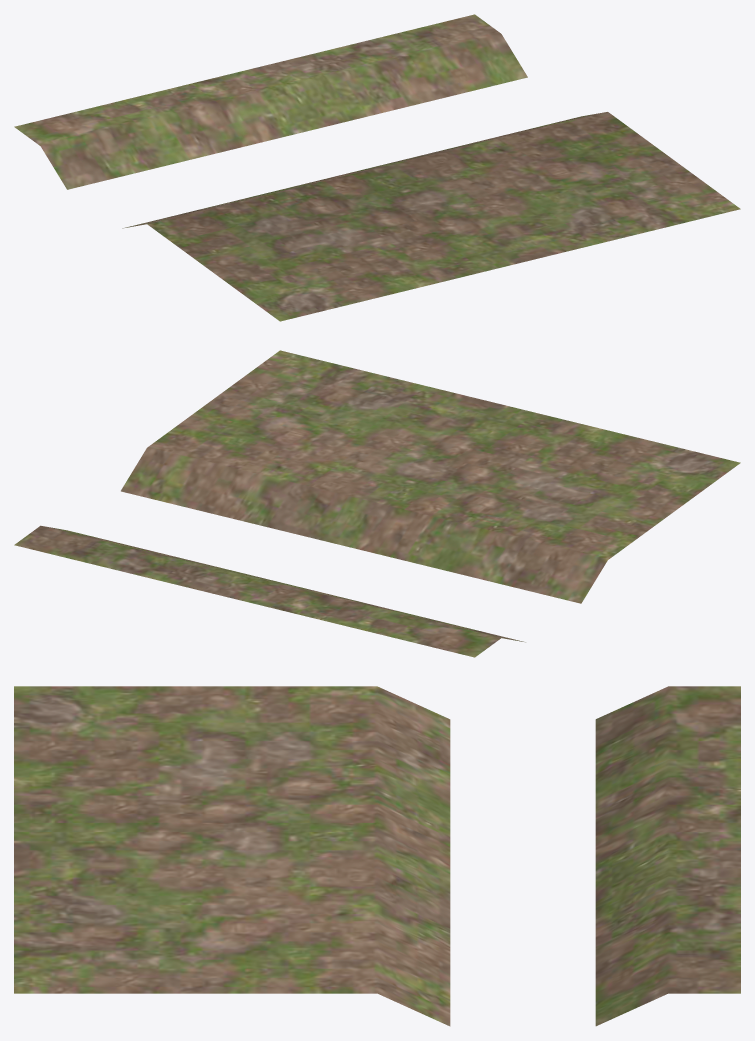
Rendered from ground3.FBX.
3 views of the same model, one above another, from view 1: azimuth 30°, elevation 25°; view 2: azimuth 150°, elevation 25°; view 3: azimuth 270°, elevation 25° (orthographic). The views are drawn at different scales.
Visible parts, largest first — view 1: ground3; view 2: ground3; view 3: ground3.
Part boxes in pixels (x1,y1,x2,y2): ground3: (14,14,740,321); ground3: (14,350,740,657); ground3: (14,686,740,1026).
Size of the model in its own units: 200 by 10 by 200.
